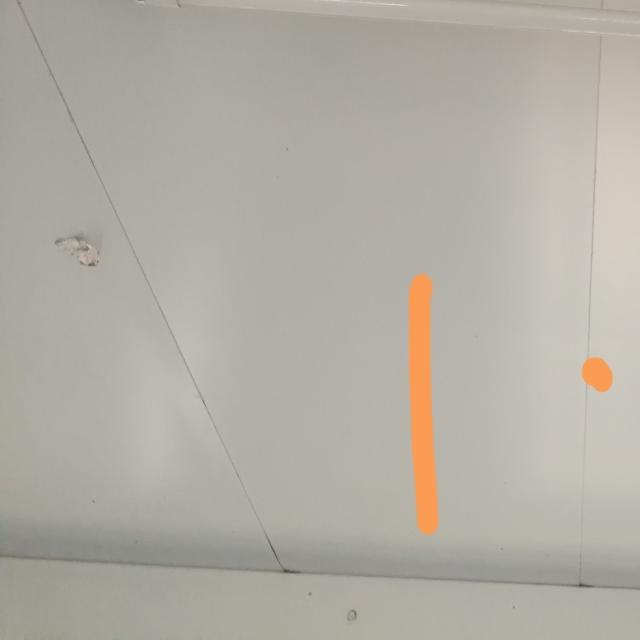fluorescent tube: (95, 0, 640, 113)
